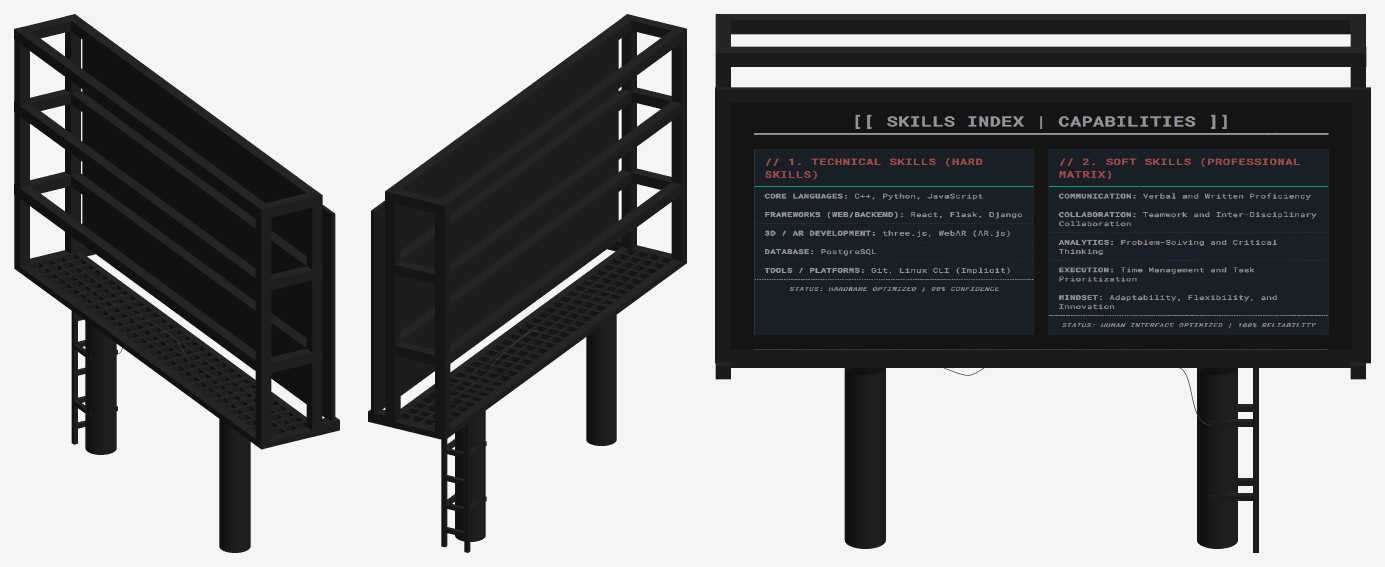
The model's file is billboard2.glb.
3 views of the same model, side by side, from view 1: azimuth 30°, elevation 25°; view 2: azimuth 150°, elevation 25°; view 3: azimuth 270°, elevation 25° (orthographic). The views are drawn at different scales.
Parts seen in each view (by area): view 1: Cube_3, Cube.002_5, Cube.009_12, Cube.010_14, Cube.008_13, Cylinder.001_35, Cube.007_11, Cylinder.002_6, Cube.006_10, Cube.004_8, Cube.005_9, Cube.019_23 (+6 smaller); view 2: Cube_3, Cube.002_5, Cube.009_12, Cube.008_13, Cube.010_14, Cylinder.001_35, Cube.004_8, Cube.005_9, Cube.007_11, Cylinder.002_6, Cube.006_10, Cube.019_23 (+7 smaller); view 3: Plane_2, Cube_3, Cube.009_12, Cylinder.001_35, Cylinder.002_6, Cube.002_5, Cube.020_24, Cube.016_20.
Part boxes in pixels (x1,y1,x2,y2): Cube_3: (82,40,335,422); Cube.002_5: (20,250,312,446); Cube.009_12: (14,14,322,219); Cube.010_14: (14,89,306,292); Cube.008_13: (14,173,310,374); Cylinder.001_35: (219,419,250,552); Cube.007_11: (255,215,271,449); Cylinder.002_6: (85,321,116,454); Cube.006_10: (306,204,322,436); Cube.004_8: (14,40,29,272); Cube.005_9: (65,31,80,253); Cube.019_23: (71,311,77,444); Cube_3: (371,40,618,415); Cube.002_5: (395,245,681,437); Cube.009_12: (385,18,686,215); Cube.008_13: (385,168,685,367); Cube.010_14: (385,89,685,286); Cylinder.001_35: (586,315,616,445); Cube.004_8: (435,211,450,440); Cube.005_9: (385,202,400,427); Cube.007_11: (671,38,686,266); Cylinder.002_6: (455,411,485,541); Cube.006_10: (621,30,636,244); Cube.019_23: (464,422,470,552); Plane_2: (730,102,1351,349); Cube_3: (715,87,1370,363); Cube.009_12: (716,14,1366,66); Cylinder.001_35: (844,368,885,548); Cylinder.002_6: (1197,368,1237,548); Cube.002_5: (731,363,1350,367); Cube.020_24: (1253,368,1258,552); Cube.016_20: (715,14,730,66).
Size of the model in its own units: 3.3 by 15.61 by 18.17.
3 materials, 1 textured.
